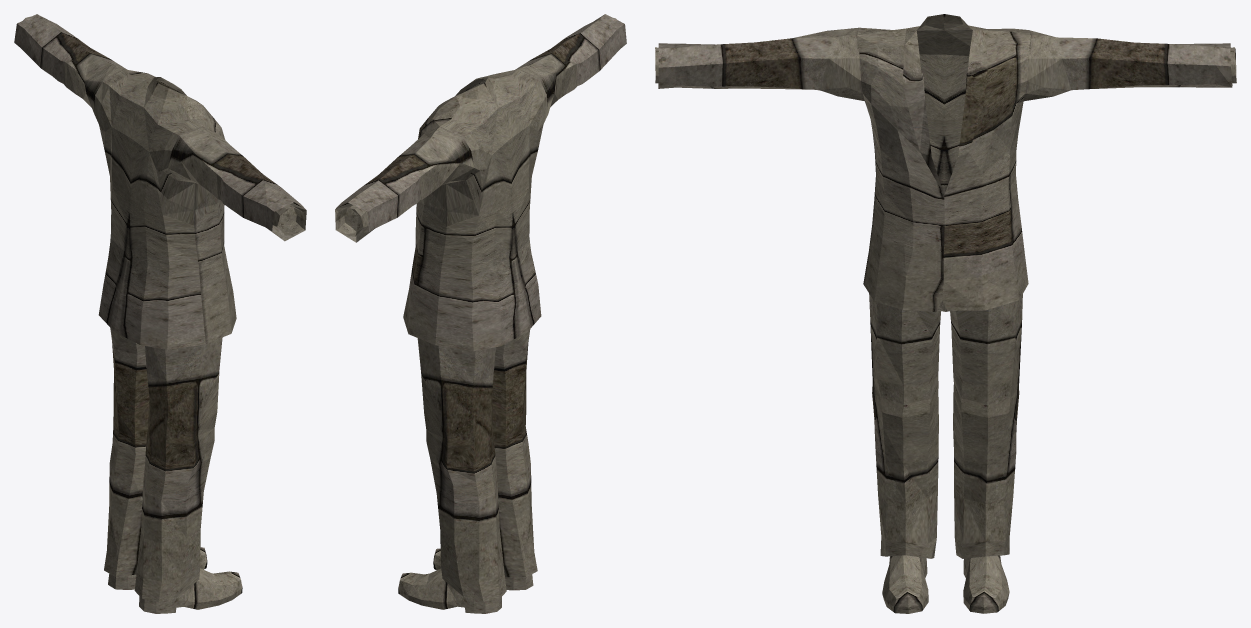
Rendered from body.obj.
3 views of the same model, side by side, from view 1: azimuth 30°, elevation 25°; view 2: azimuth 150°, elevation 25°; view 3: azimuth 270°, elevation 25° (orthographic). The views are drawn at different scales.
Parts seen in each view (by area): view 1: Body_0002_Object.003_Mesh._0002_Object.003_Mesh._Morgan_Freeman_; view 2: Body_0002_Object.003_Mesh._0002_Object.003_Mesh._Morgan_Freeman_; view 3: Body_0002_Object.003_Mesh._0002_Object.003_Mesh._Morgan_Freeman_.
Boxes of the visible parts, x1,y1,x2,y2 form: Body_0002_Object.003_Mesh._0002_Object.003_Mesh._Morgan_Freeman_: [14, 14, 306, 613]; Body_0002_Object.003_Mesh._0002_Object.003_Mesh._Morgan_Freeman_: [335, 14, 626, 613]; Body_0002_Object.003_Mesh._0002_Object.003_Mesh._Morgan_Freeman_: [655, 14, 1236, 613].
Size of the model in its own units: 0.3628 by 1.61 by 1.5.
Materials: 1 (1 with a texture image).
